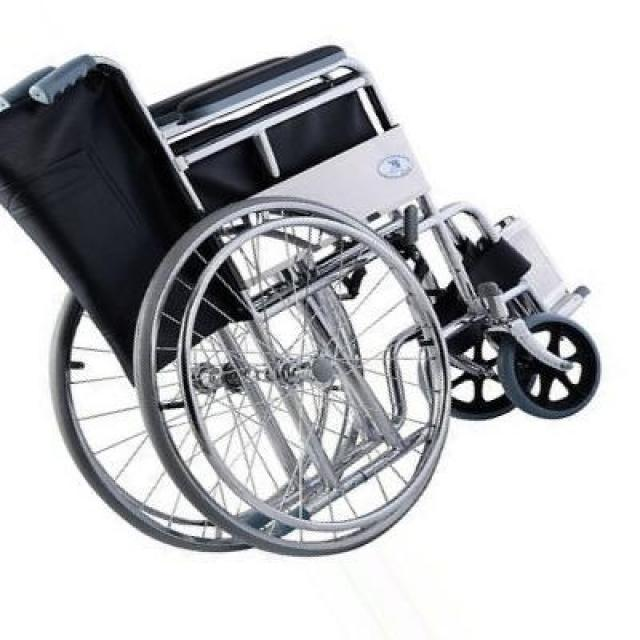wheelchair: (0, 39, 611, 567)
